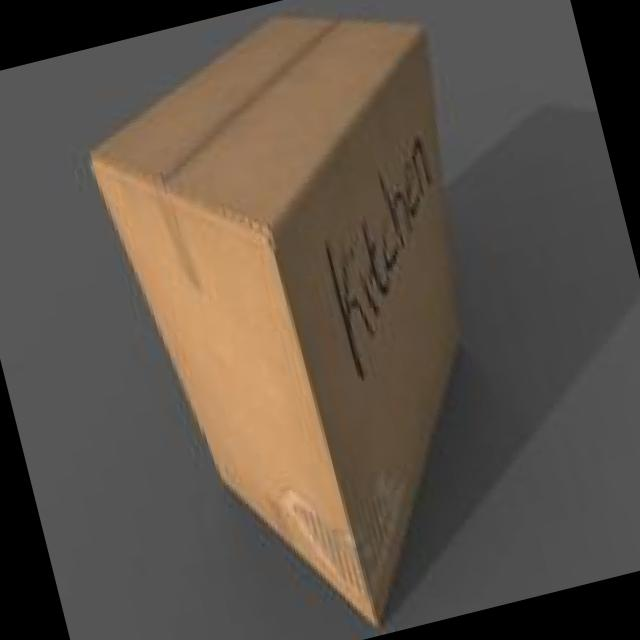box: (89, 14, 460, 630)
